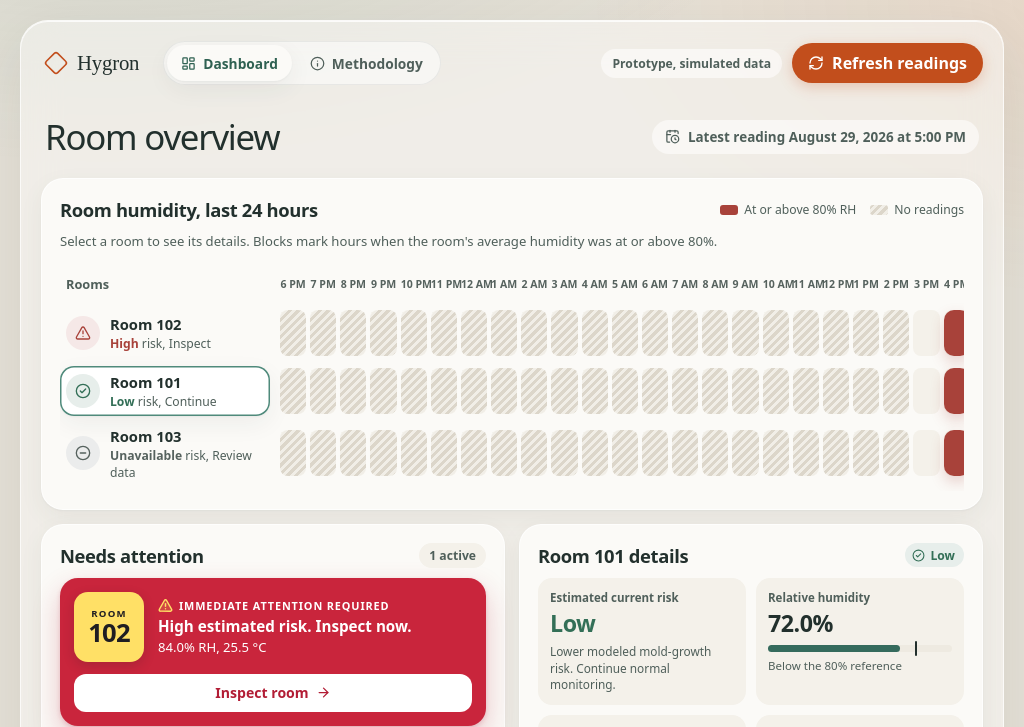
it: dashboard interactions › selects a room and updates its details
Click the button with aria-label "Room 102:".
click(165, 333)  # box top-left (60, 308), bottom-right (270, 358)
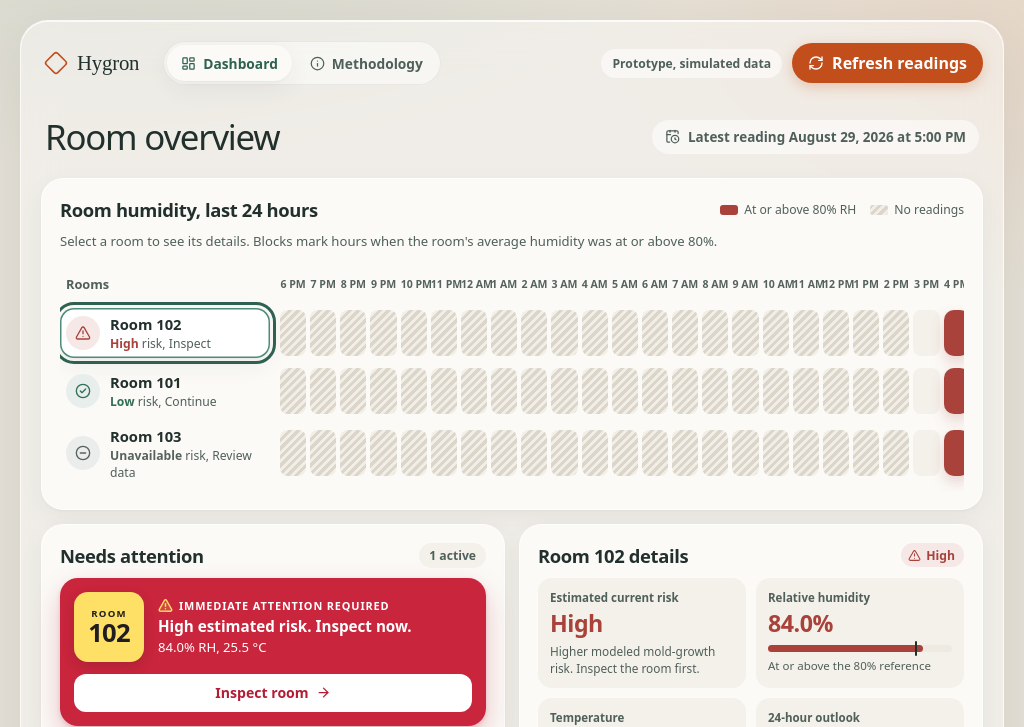
Expected: the heading "Room 102 details" is shown, top-left (538, 543), bottom-right (688, 568)
